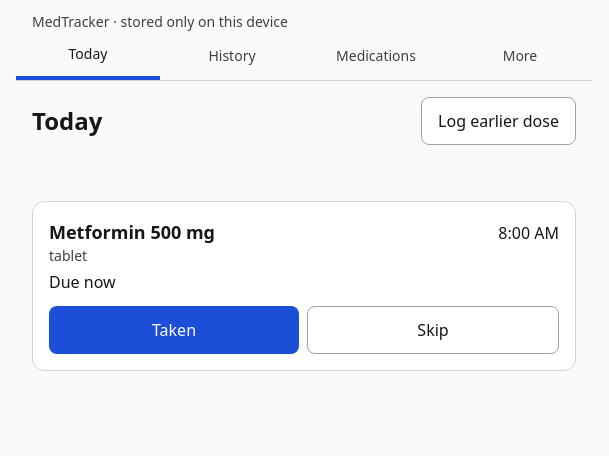
Scenario: History › keeps undone entries visible and labelled
Step 1. Click the button "Taken" → (174, 330), box [49,306,299,354]
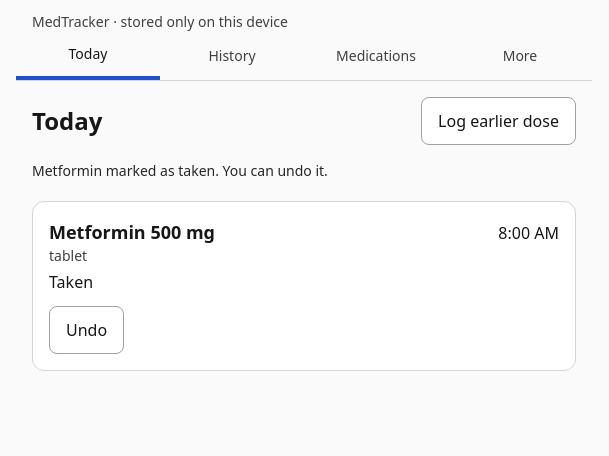
Step 2. Click the button "Undo" → (87, 330), box [49,306,124,354]
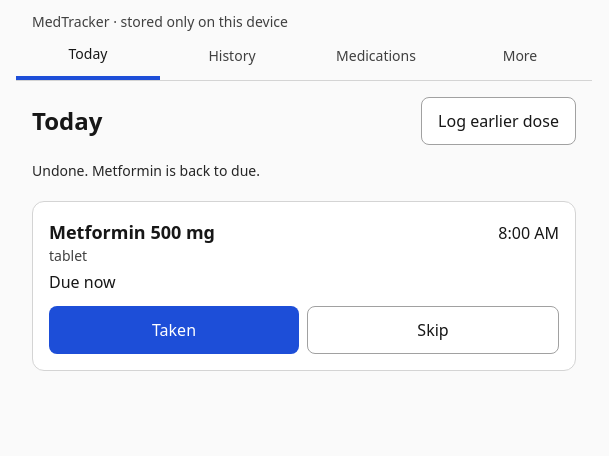
Step 3. Click the tab "History" → (232, 56), box [160,32,304,80]
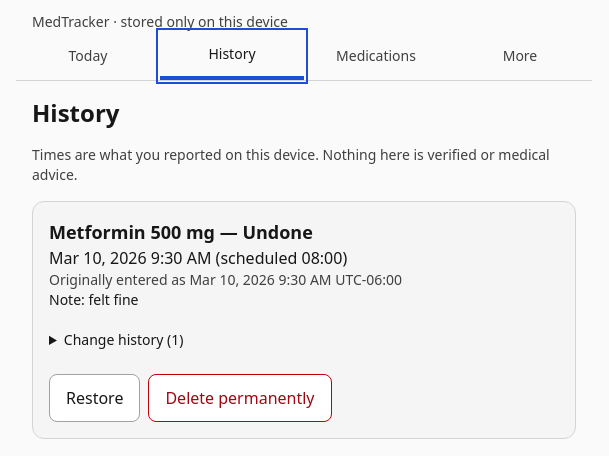
Expected: the text "Metformin 500 mg — Undone" is shown, [49,220,313,244]
